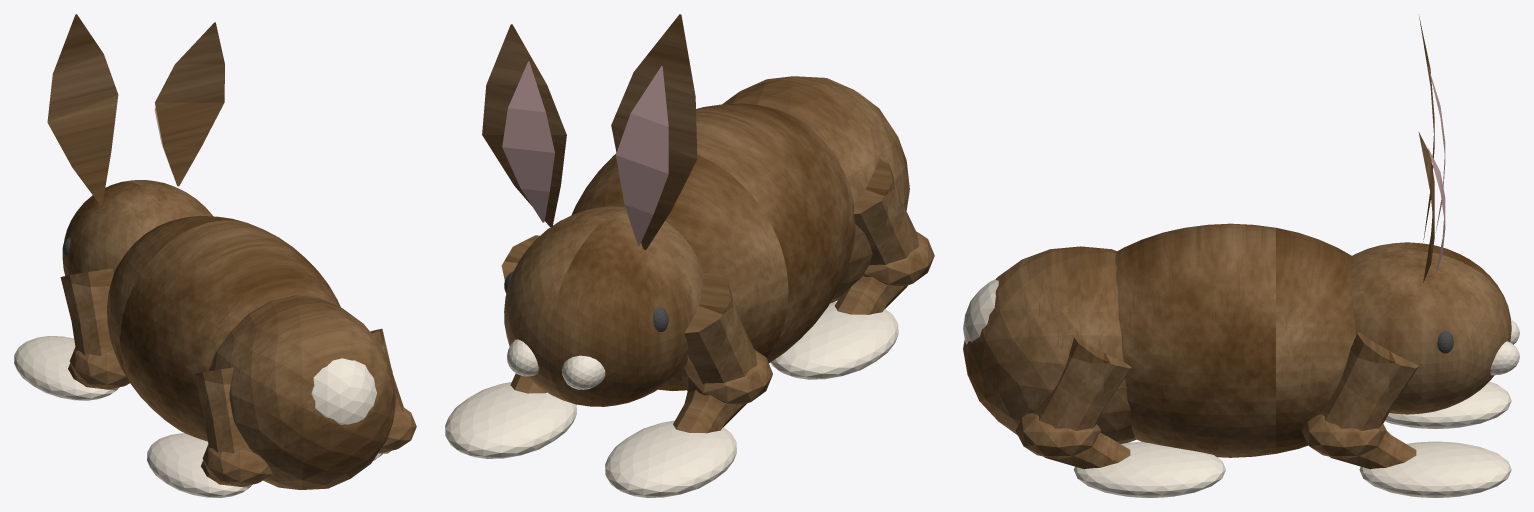
File: Hare_Brown.glb
3 views of the same model, side by side, from view 1: azimuth 30°, elevation 25°; view 2: azimuth 150°, elevation 25°; view 3: azimuth 270°, elevation 25° (orthographic). The views are drawn at different scales.
Visible parts, largest first — view 1: Baked_Hare brown, Baked_Cream fur, leg_fl, leg_bl, leg_br; view 2: Baked_Hare brown, Baked_Cream fur, Baked_Ear inside, leg_fl, leg_bl, leg_fr; view 3: Baked_Hare brown, Baked_Cream fur, leg_fr, leg_br, Baked_Ear inside.
Boxes of the visible parts, x1,y1,x2,y2 form: Baked_Hare brown: (47, 14, 396, 489); Baked_Cream fur: (14, 336, 382, 497); leg_fl: (60, 268, 129, 390); leg_bl: (193, 367, 272, 487); leg_br: (370, 328, 416, 453); Baked_Hare brown: (482, 14, 909, 406); Baked_Cream fur: (445, 91, 898, 497); Baked_Ear inside: (502, 61, 668, 245); leg_fl: (673, 273, 772, 433); leg_bl: (835, 158, 934, 314); leg_fr: (501, 235, 546, 393); Baked_Hare brown: (963, 14, 1511, 457); Baked_Cream fur: (963, 279, 1519, 497); leg_fr: (1301, 332, 1418, 469); leg_br: (1015, 337, 1131, 469); Baked_Ear inside: (1428, 66, 1445, 274).
Bounding box in the file's own units: 0.5888 × 0.9878 × 1.23.
Materials: 4 (1 with a texture image).
